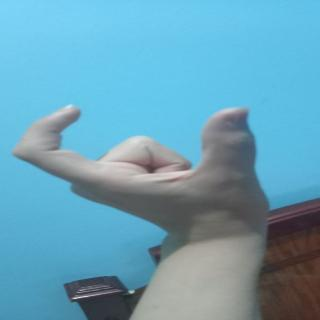NOON: (4, 100, 311, 235)
